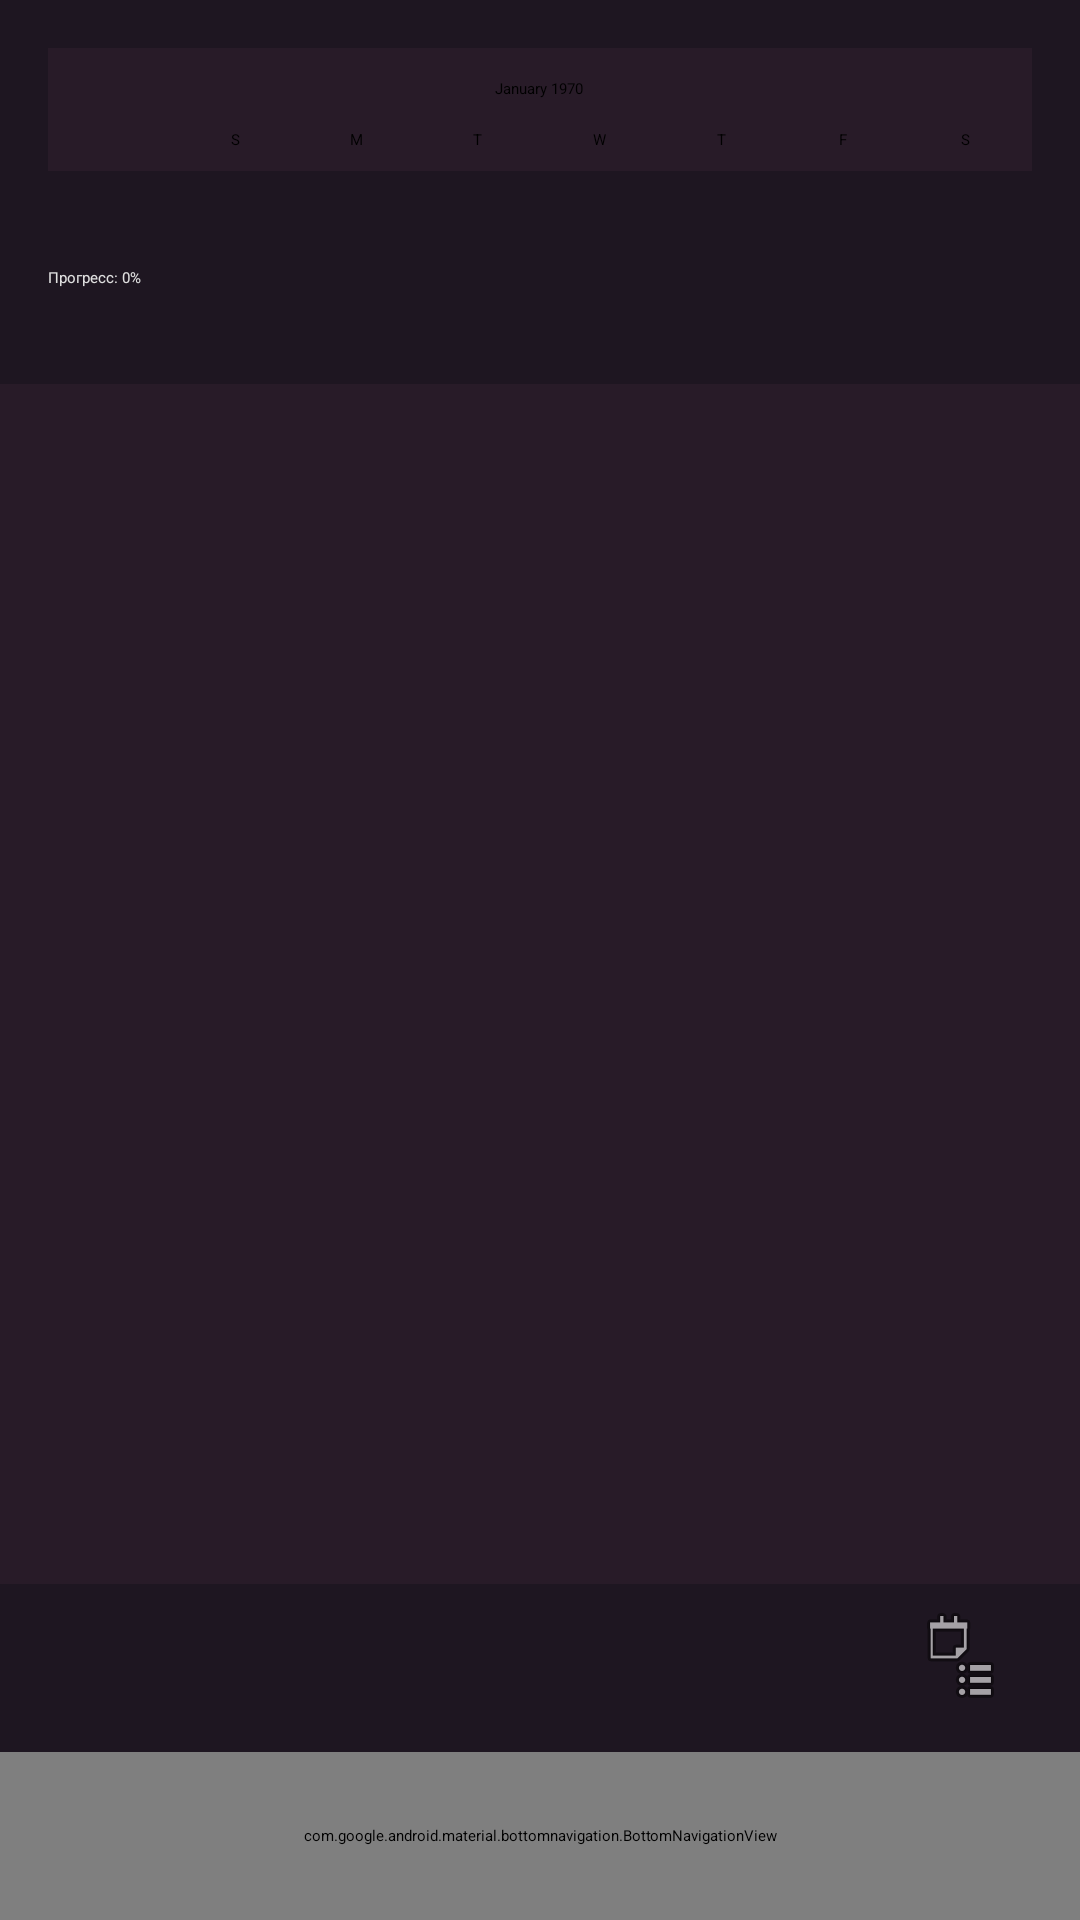

Icon bounding boxes for this 1080×1920 phone screenshot, format (x1=x1, y1=y1, x2=x2, y2=y2):
Переключить вид: (x1=930, y1=1616, x2=991, y2=1695)
